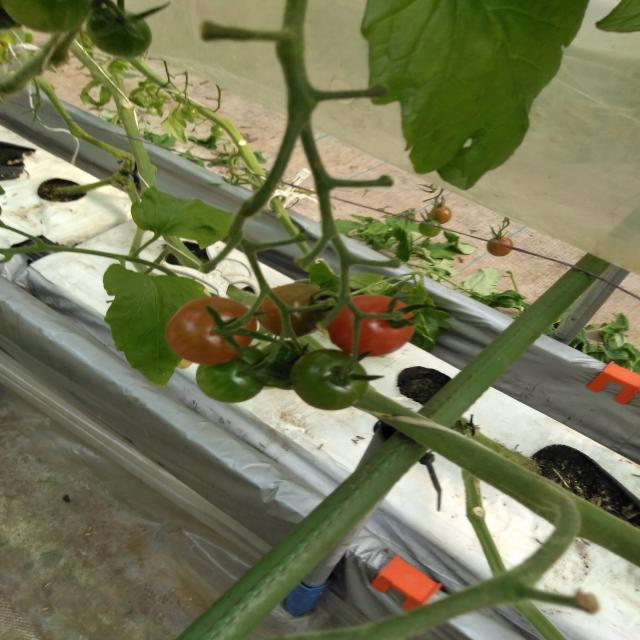c-half-riped: (166, 297, 257, 364), (255, 283, 332, 339), (485, 236, 513, 257), (430, 206, 451, 224)
c-riped: (326, 295, 414, 357)
c-unriped: (290, 348, 369, 411), (195, 346, 272, 404), (85, 8, 153, 58), (0, 0, 94, 35), (262, 340, 310, 390), (420, 218, 440, 238)
